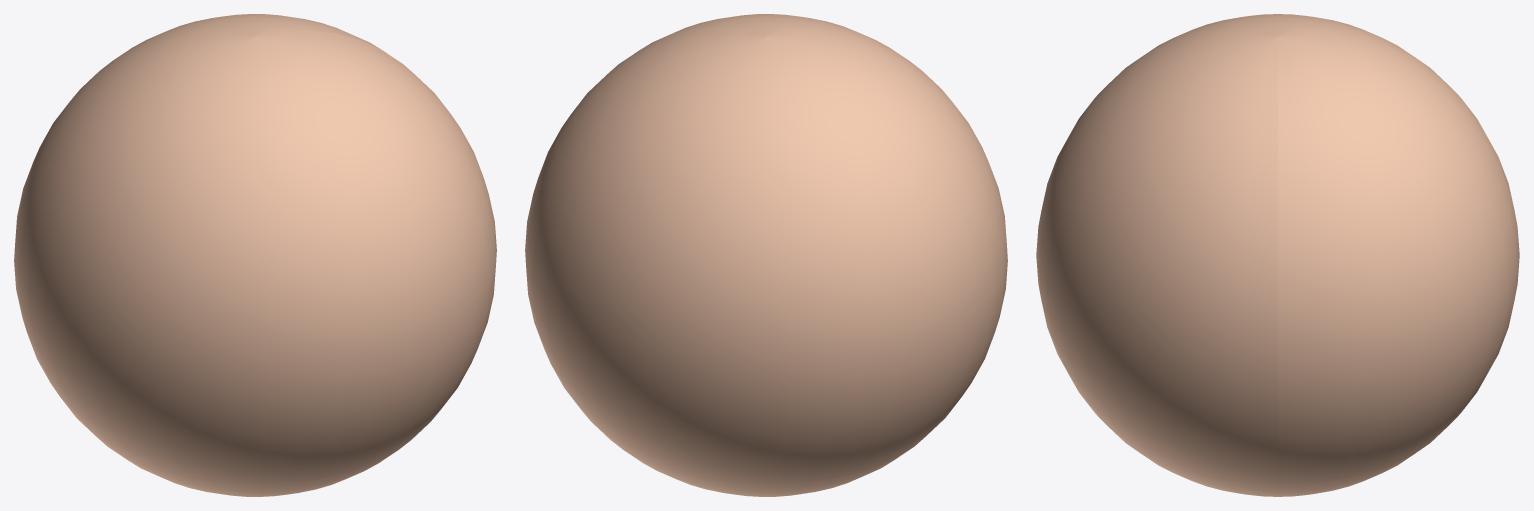
File: morph.gltf
3 renders of one model, left to right at view 1: azimuth 30°, elevation 25°; view 2: azimuth 150°, elevation 25°; view 3: azimuth 270°, elevation 25°, orthographic.
Parts seen in each view (by area): view 1: morphSphere; view 2: morphSphere; view 3: morphSphere.
Boxes of the visible parts, bbox=[...] form: morphSphere: bbox=[14, 14, 496, 496]; morphSphere: bbox=[525, 14, 1007, 496]; morphSphere: bbox=[1036, 14, 1519, 496].
Bounding box in the file's own units: 1 × 1 × 1.
